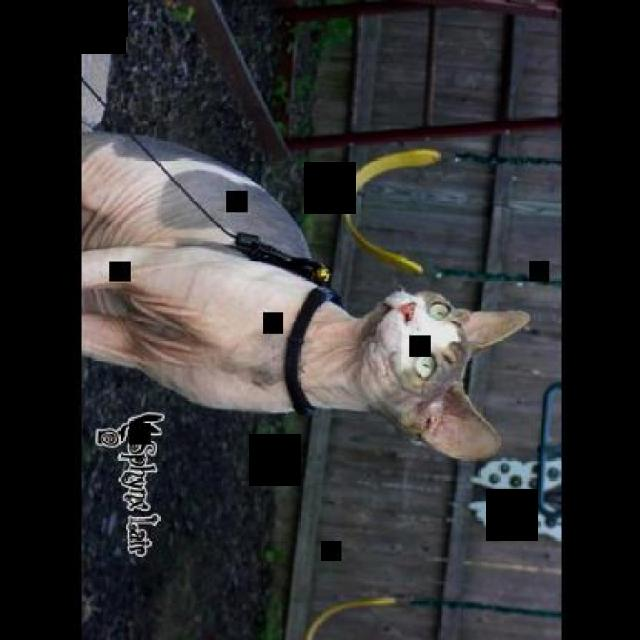unauthorized: (80, 128, 531, 463)
